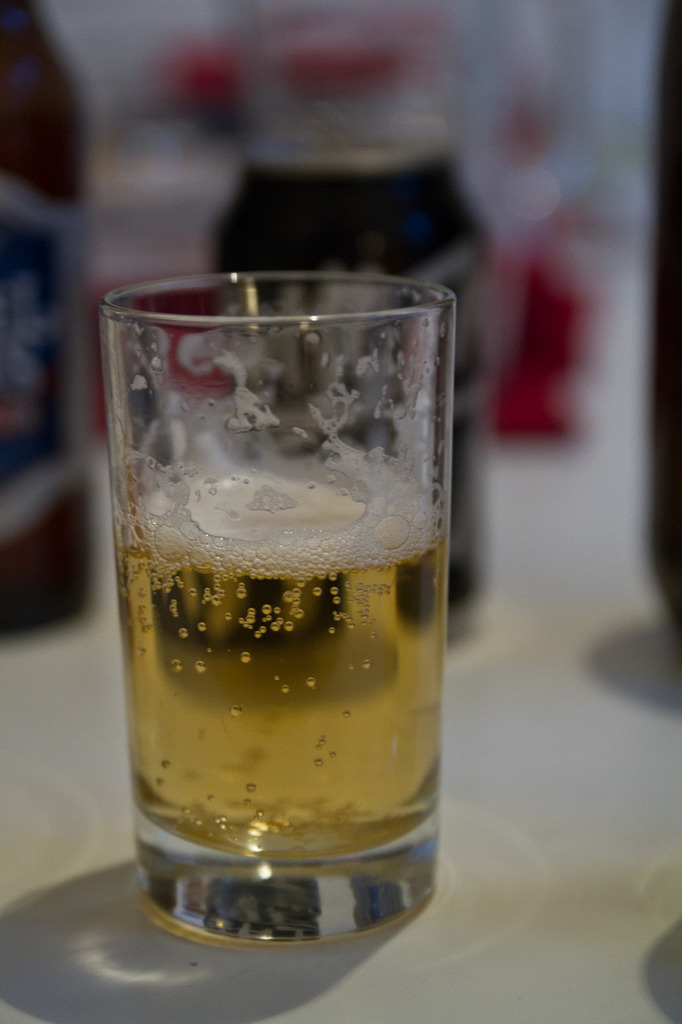Beer: (102, 259, 463, 961)
